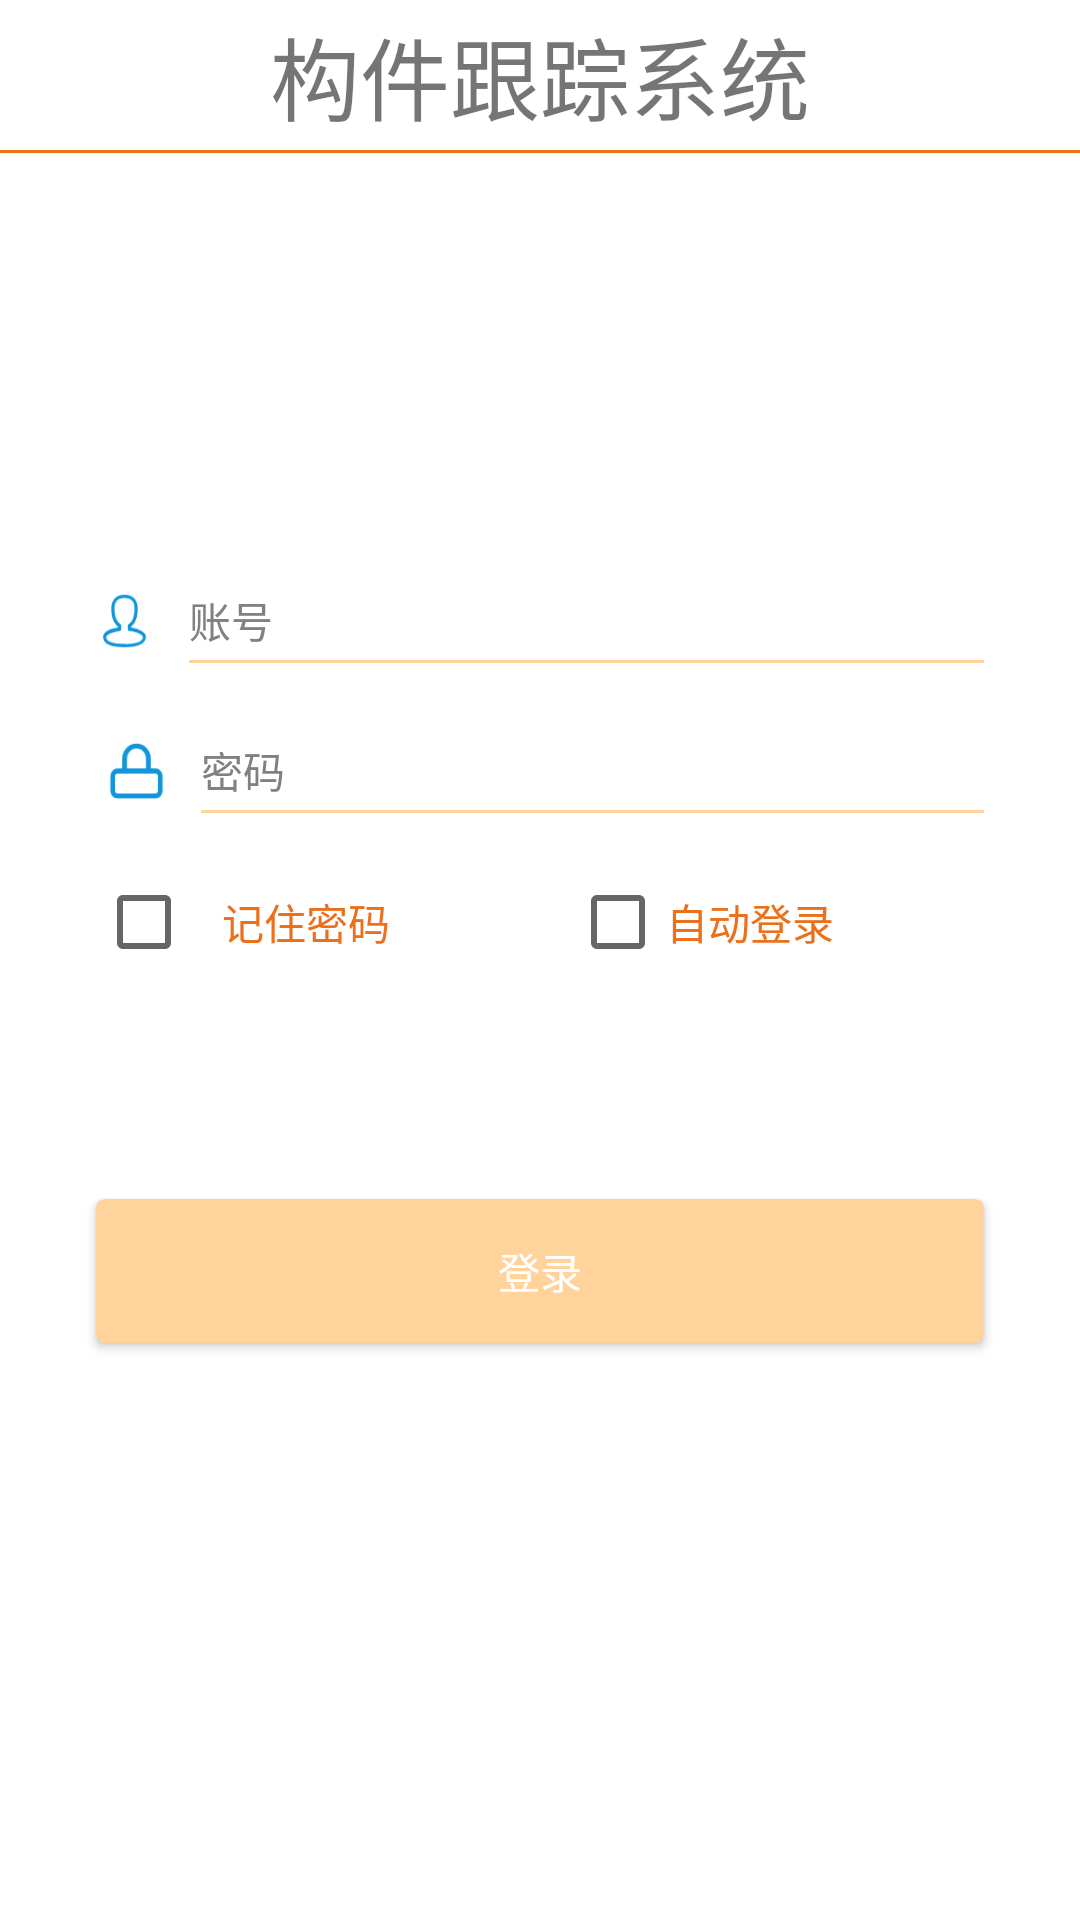

Icons on this 1080*1920 Android screen, each with the point to tap as point (x, y):
login account: point (124, 621)
login pw: point (136, 771)
